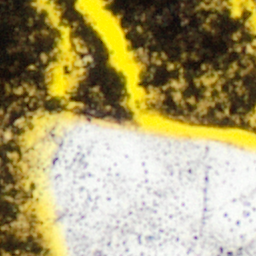cement_matrix: (106, 0, 255, 125), (0, 0, 62, 255), (54, 0, 129, 119), (203, 75, 216, 87), (173, 80, 181, 92), (198, 102, 207, 110)
cracks: (12, 0, 255, 255), (225, 0, 255, 36), (204, 76, 215, 86), (174, 81, 180, 91), (249, 44, 255, 54), (199, 103, 206, 109)
gravel_crushed_stones: (39, 120, 255, 255), (0, 131, 12, 139)
